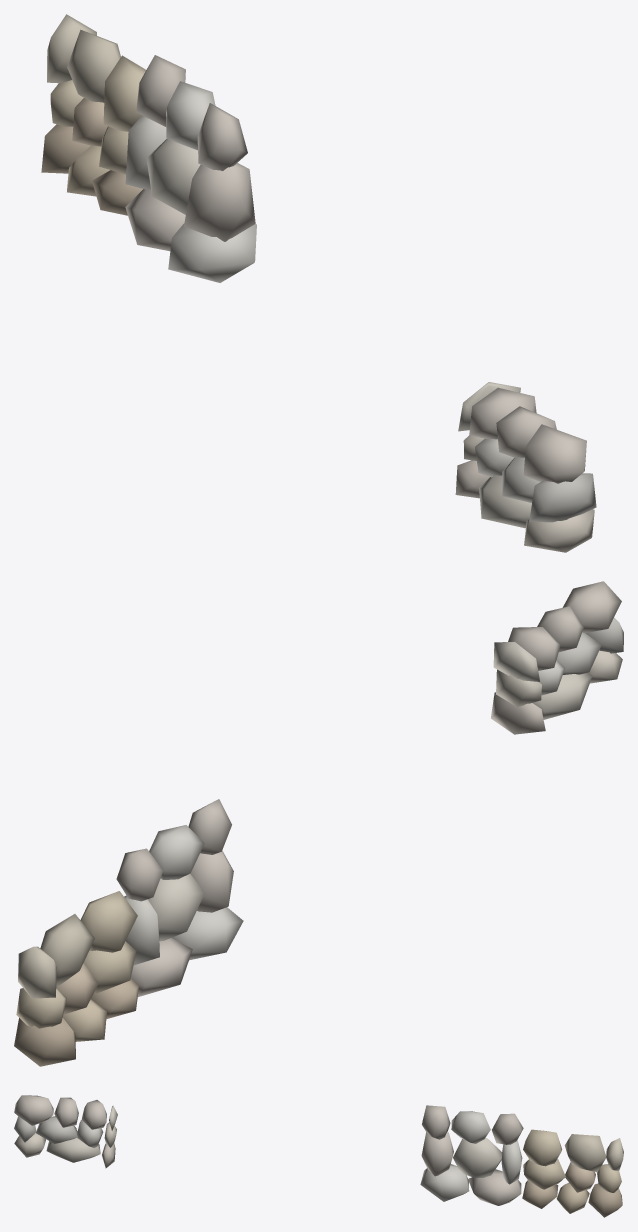
File: farm_27_41_near.glb
The picture shows the model from 3 angles, top to bottom: view 1: azimuth 30°, elevation 25°; view 2: azimuth 150°, elevation 25°; view 3: azimuth 270°, elevation 25°; orthographic projection. The views are drawn at different scales.
Parts seen in each view (by area): view 1: geometry_0; view 2: geometry_0; view 3: geometry_0.
Boxes of the visible parts, left/top/right/bottom form: geometry_0: left=41, top=14, right=596, bottom=552; geometry_0: left=14, top=581, right=623, bottom=1066; geometry_0: left=14, top=1095, right=623, bottom=1217.
Size of the model in its own units: 1.48 by 1.67 by 9.39.
